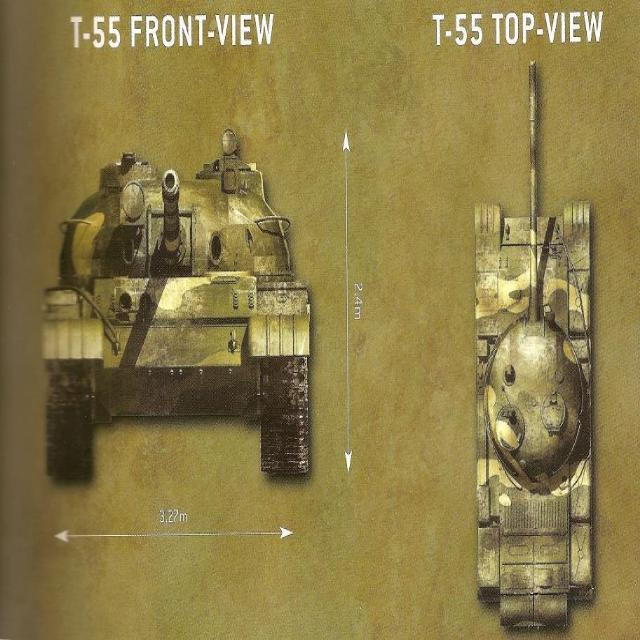Tanks: (33, 114, 334, 508), (448, 49, 618, 636)
